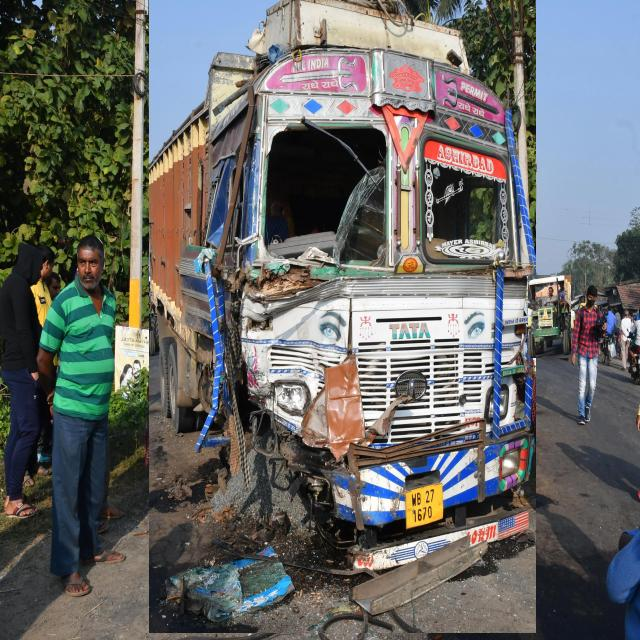accident: (149, 0, 536, 633)
truck: (528, 276, 571, 358)
